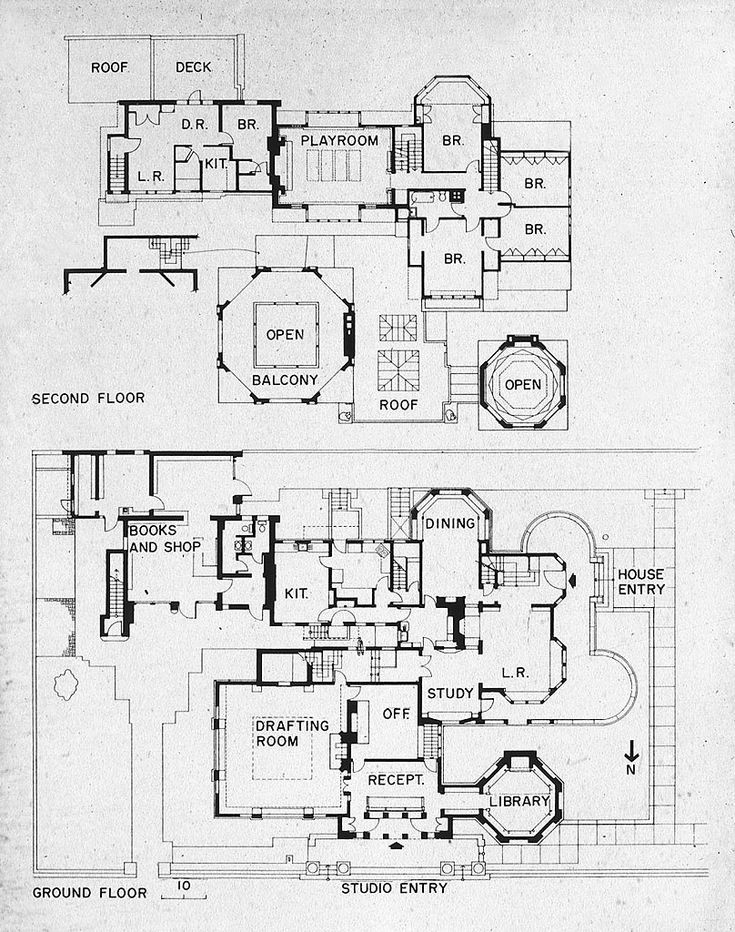door: (130, 106, 160, 129), (97, 510, 120, 537), (540, 570, 565, 594), (152, 493, 173, 515), (235, 477, 254, 498), (183, 83, 204, 101), (124, 135, 139, 156), (467, 152, 480, 173), (462, 221, 479, 230), (487, 238, 497, 253)
wall: (264, 101, 280, 181), (266, 520, 277, 622), (153, 447, 234, 460), (221, 680, 310, 688), (351, 680, 418, 689), (418, 542, 426, 607), (215, 521, 225, 571), (415, 681, 426, 725), (121, 98, 178, 106), (257, 646, 307, 655), (104, 553, 111, 617), (442, 781, 482, 791), (347, 701, 354, 758), (66, 447, 102, 457), (479, 686, 502, 695)
